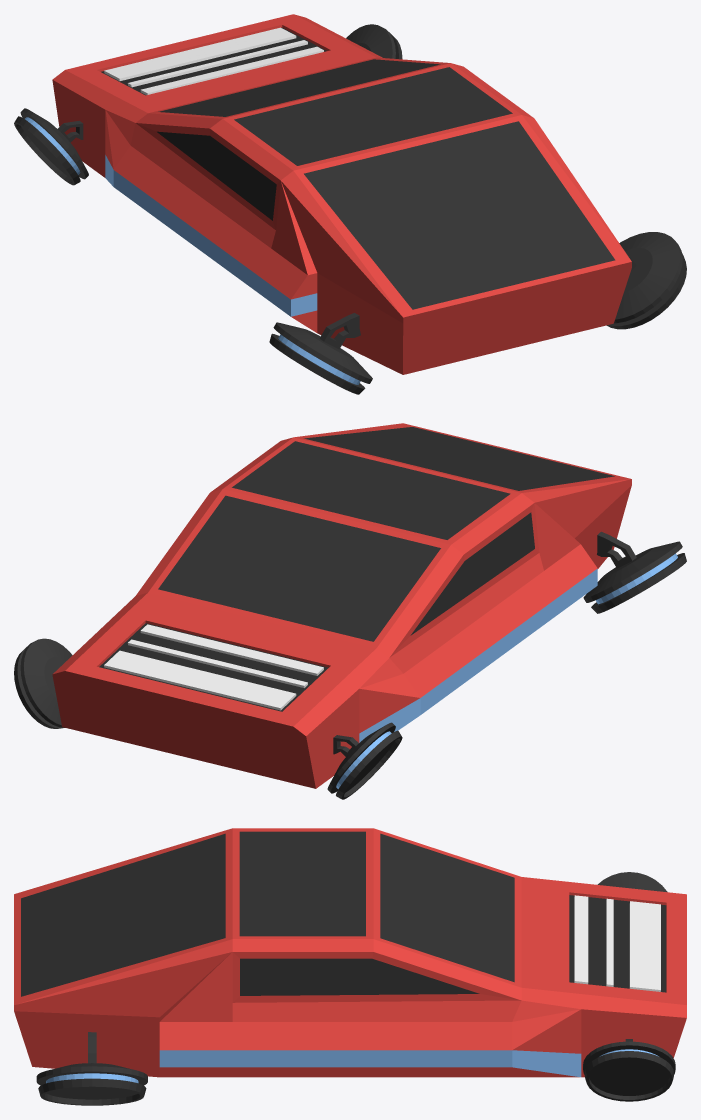
Rendered from Wrecked Car 1.fbx.
3 renders of one model, top to bottom at view 1: azimuth 30°, elevation 25°; view 2: azimuth 150°, elevation 25°; view 3: azimuth 270°, elevation 25°, orthographic.
Visible parts, largest first — view 1: Wrecked Car 1, Car Wheel Back Right, Car Wheel Back Left, Car Wheel Front Left, Car Wheel Front Right; view 2: Wrecked Car 1, Car Wheel Back Left, Car Wheel Front Right, Car Wheel Front Left; view 3: Wrecked Car 1, Car Wheel Front Right, Car Wheel Back Right, Car Wheel Front Left.
Boxes of the visible parts, x1,y1,x2,y2 form: Wrecked Car 1: (52, 14, 631, 374); Car Wheel Back Right: (606, 232, 686, 329); Car Wheel Back Left: (269, 313, 372, 394); Car Wheel Front Left: (14, 108, 88, 185); Car Wheel Front Right: (346, 24, 402, 59); Wrecked Car 1: (52, 423, 631, 788); Car Wheel Back Left: (583, 531, 686, 613); Car Wheel Front Right: (14, 638, 72, 728); Car Wheel Front Left: (327, 722, 402, 799); Wrecked Car 1: (14, 828, 686, 1077); Car Wheel Front Right: (583, 1039, 675, 1101); Car Wheel Back Right: (36, 1032, 147, 1105); Car Wheel Front Left: (597, 872, 667, 892).
Size of the model in its own units: 632 by 243 by 923.
